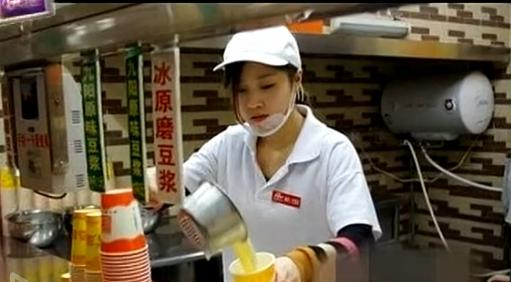WRONG: (234, 69, 293, 134)
